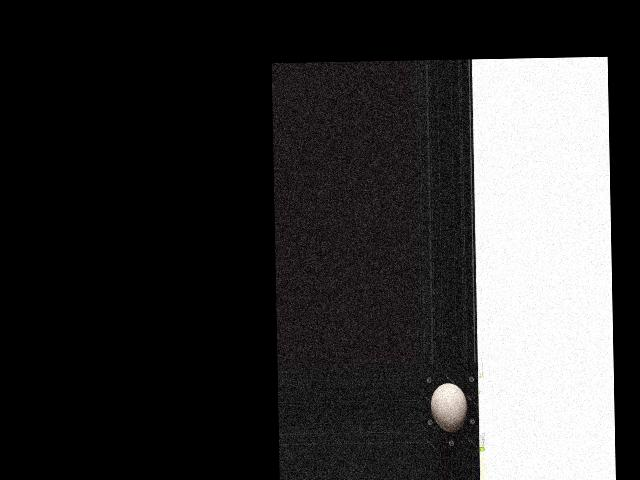egg: (430, 382, 467, 432)
